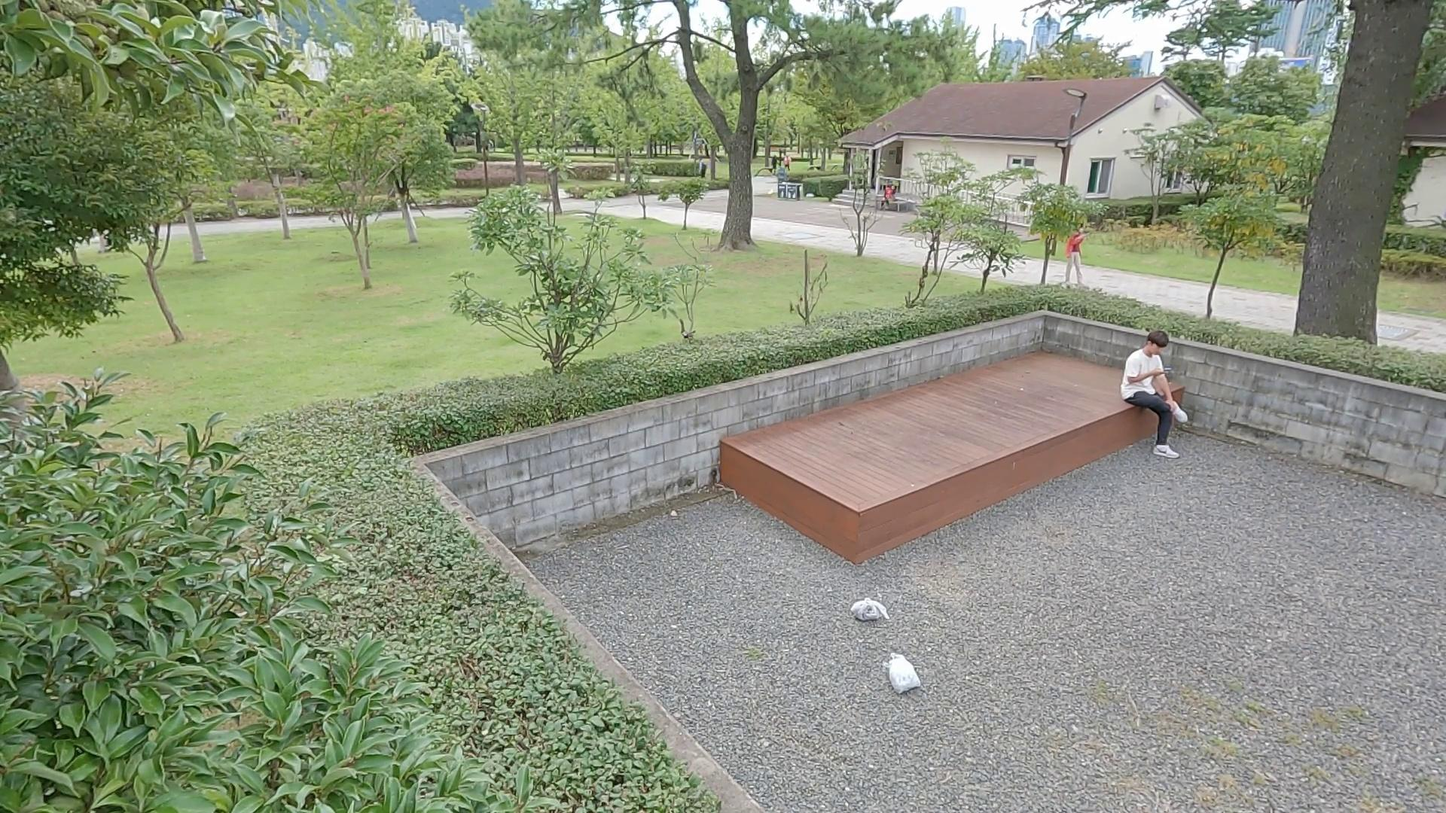person: (1118, 324, 1194, 468), (1054, 220, 1097, 292)
trash: (878, 646, 924, 697), (846, 596, 891, 627)
